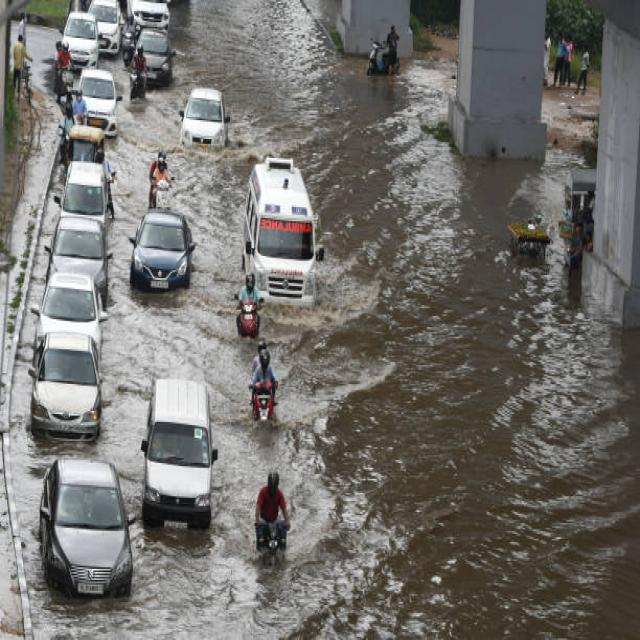ambulance: (244, 154, 323, 317), (252, 201, 313, 264)
